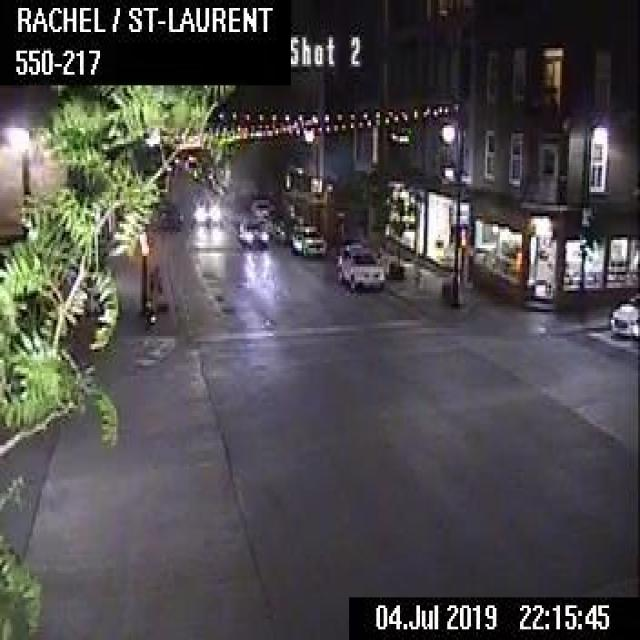vehicle: (334, 242, 384, 290), (607, 290, 638, 338), (290, 223, 326, 256), (236, 213, 267, 244), (192, 195, 220, 224), (154, 203, 180, 228)
